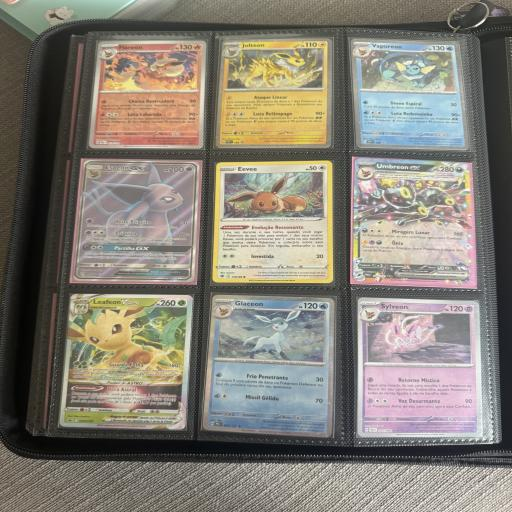card: (202, 290, 341, 438), (59, 291, 193, 430), (357, 297, 482, 437), (353, 158, 476, 286), (73, 160, 200, 282), (212, 159, 334, 283), (348, 39, 472, 150), (215, 38, 333, 148), (88, 40, 207, 149)
